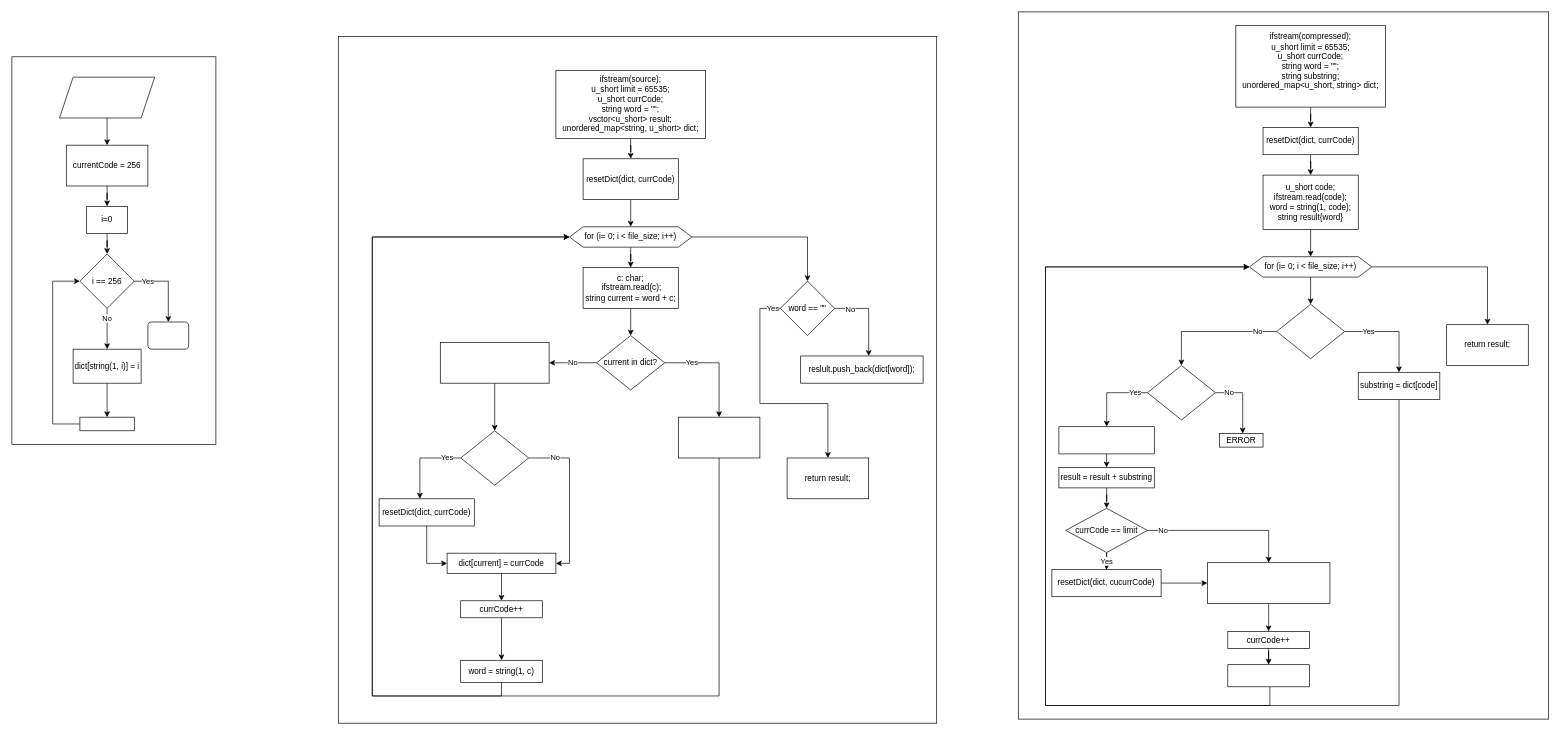
The diagram is 1561 pixels wide and 735 high, and some of its shapes have lost their labels. The box of each missing label's shape, as (x1, y1, x2, y2) in pixels:
code in dict?: (1276, 304, 1345, 359)
code==currCode: (1147, 365, 1215, 420)
Compress: (338, 36, 937, 723)
current==limit: (460, 430, 529, 485)
Decompress: (1018, 11, 1549, 719)
dict: string,u_short; currentCode: u_short: (59, 76, 155, 118)
dict[currCode] = word+substr[0]: (1207, 562, 1330, 604)
End: (147, 321, 189, 349)
i++: (79, 417, 134, 431)
ResetDictionary: (11, 56, 216, 444)
result.push_back(dict[word]): (440, 342, 549, 383)
substr = word + word[0]: (1058, 426, 1154, 454)
word = current: (678, 417, 760, 458)
word = substr: (1227, 664, 1309, 687)
